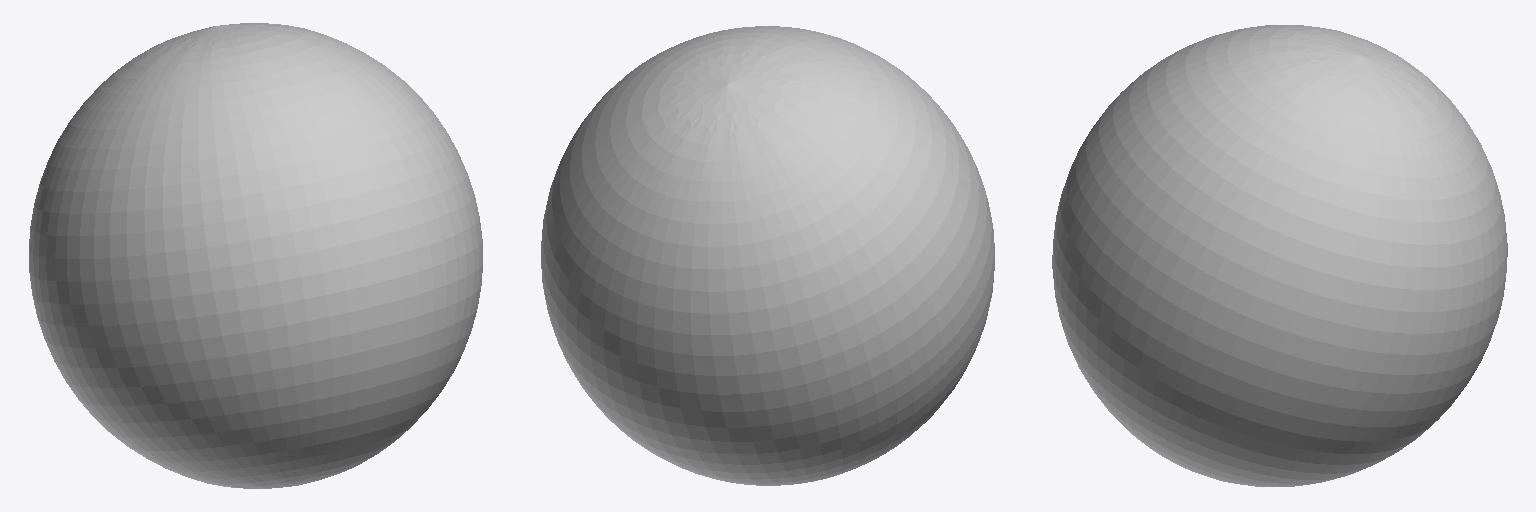
Rendered from ball8.obj.
3 renders of one model, left to right at view 1: azimuth 30°, elevation 25°; view 2: azimuth 150°, elevation 25°; view 3: azimuth 270°, elevation 25°, orthographic.
Parts seen in each view (by area): view 1: Sphere01.012; view 2: Sphere01.012; view 3: Sphere01.012.
Part boxes in pixels (x1,y1,x2,y2): Sphere01.012: (29, 23, 482, 488); Sphere01.012: (541, 26, 994, 485); Sphere01.012: (1052, 25, 1507, 486).
Size of the model in its own units: 5.45 by 5.58 by 5.46.